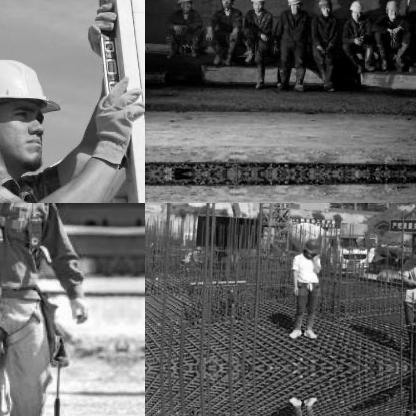Helmet: (0, 40, 63, 176), (299, 236, 319, 256), (348, 0, 364, 23), (383, 0, 399, 21), (316, 0, 333, 17), (176, 0, 193, 15), (247, 0, 264, 14), (286, 0, 302, 14), (219, 0, 234, 12), (410, 236, 415, 262)
